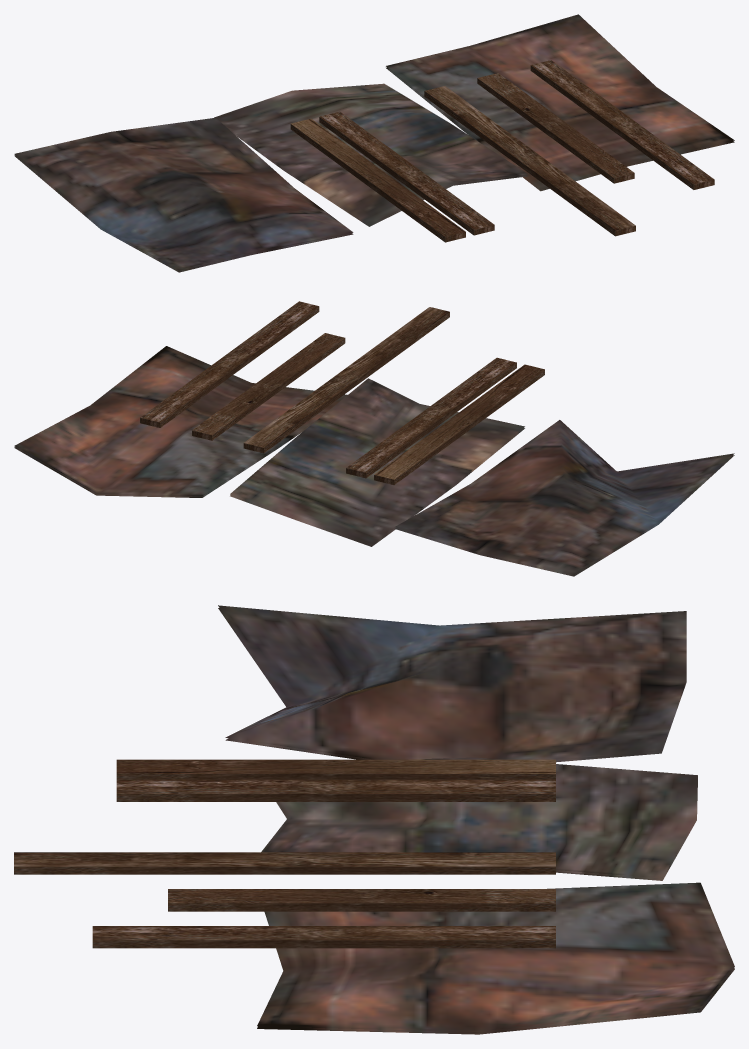
Rendered from PalletD.fbx.
The picture shows the model from 3 angles, top to bottom: view 1: azimuth 30°, elevation 25°; view 2: azimuth 150°, elevation 25°; view 3: azimuth 270°, elevation 25°; orthographic projection. The views are drawn at different scales.
Parts seen in each view (by area): view 1: PalletD; view 2: PalletD; view 3: PalletD.
Boxes of the visible parts, <box> form: PalletD: <box>14,14,734,272</box>; PalletD: <box>14,301,734,576</box>; PalletD: <box>14,605,734,1034</box>.
Size of the model in its own units: 457 by 24.26 by 353.
